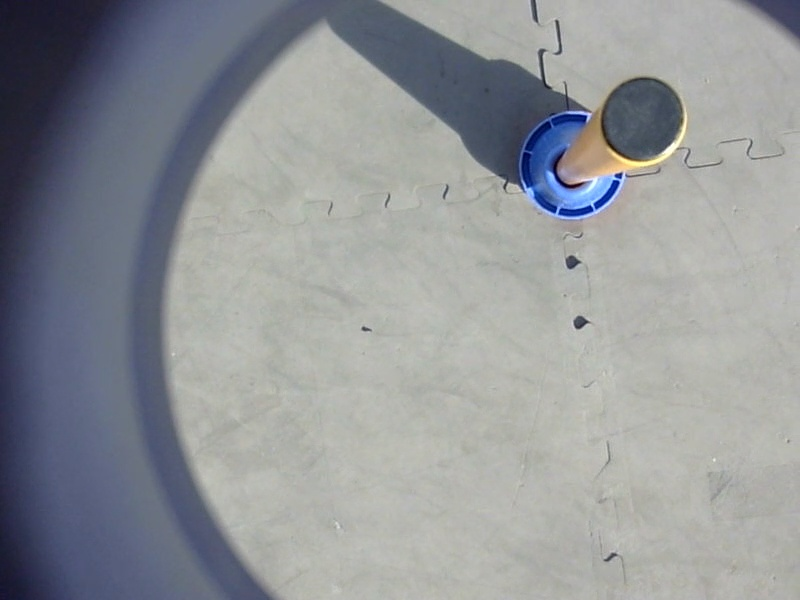tip: (593, 71, 693, 171)
